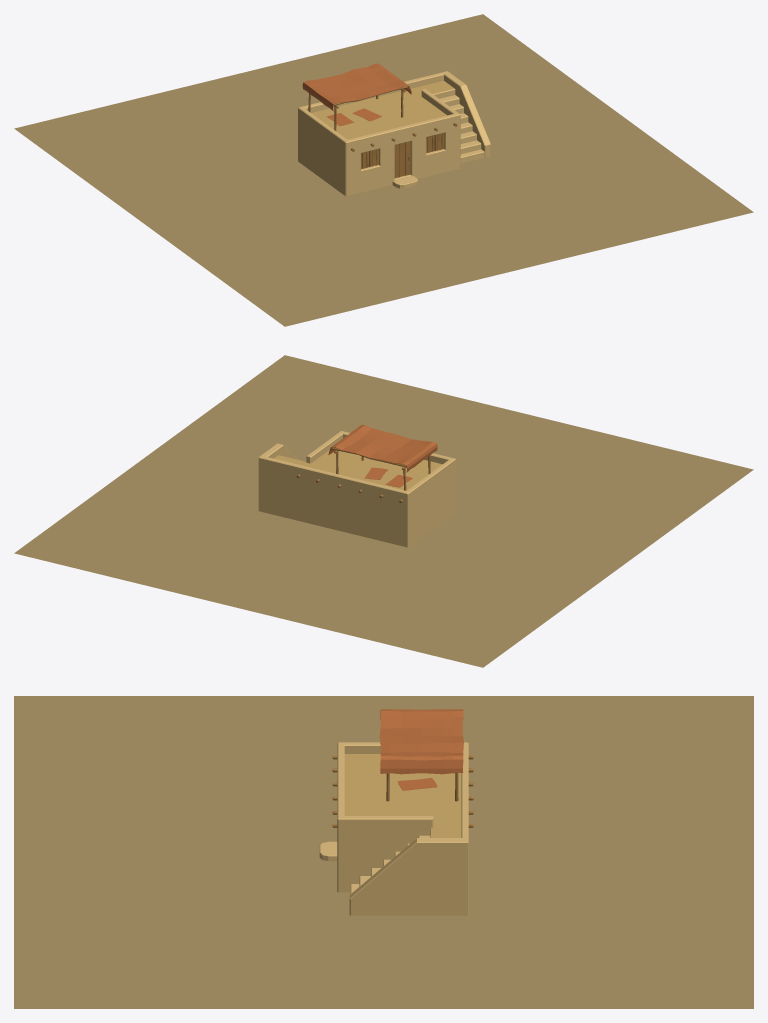
File: Tile 39_Combined.fbx
The picture shows the model from 3 angles, top to bottom: view 1: azimuth 30°, elevation 25°; view 2: azimuth 150°, elevation 25°; view 3: azimuth 270°, elevation 25°; orthographic projection. The views are drawn at different scales.
Visible parts, largest first — view 1: MeshBaker_mesh_mesh; view 2: MeshBaker_mesh_mesh; view 3: MeshBaker_mesh_mesh.
Part boxes in pixels (left/top/right/bottom): MeshBaker_mesh_mesh: left=14, top=14, right=753, bottom=326; MeshBaker_mesh_mesh: left=14, top=355, right=753, bottom=667; MeshBaker_mesh_mesh: left=14, top=696, right=753, bottom=1008.
Size of the model in its own units: 3000 by 493 by 3000.
